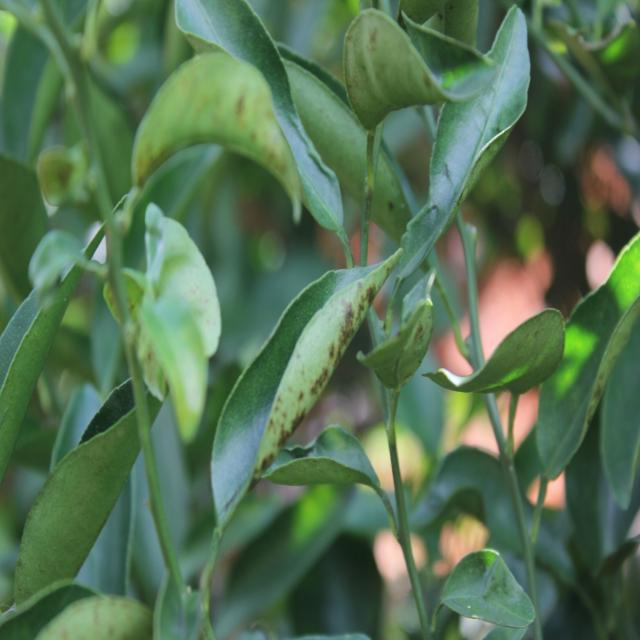melanose: (218, 244, 404, 506), (121, 65, 319, 232), (329, 0, 499, 140), (104, 241, 208, 410)
